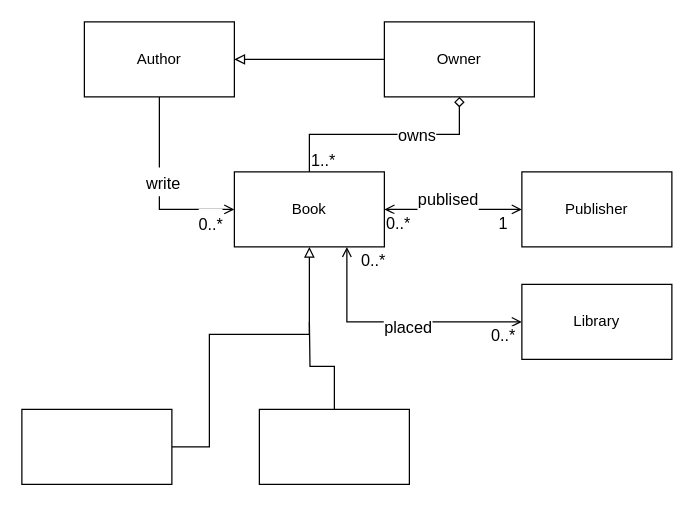
Image size: 694x506. Some labels were removed from this diagram. The box of each missing label's shape, as (x1, y1, x2, y2) in pixels:
Fiction_Category: (21, 408, 172, 484)
Mystery_Category: (258, 408, 409, 484)
